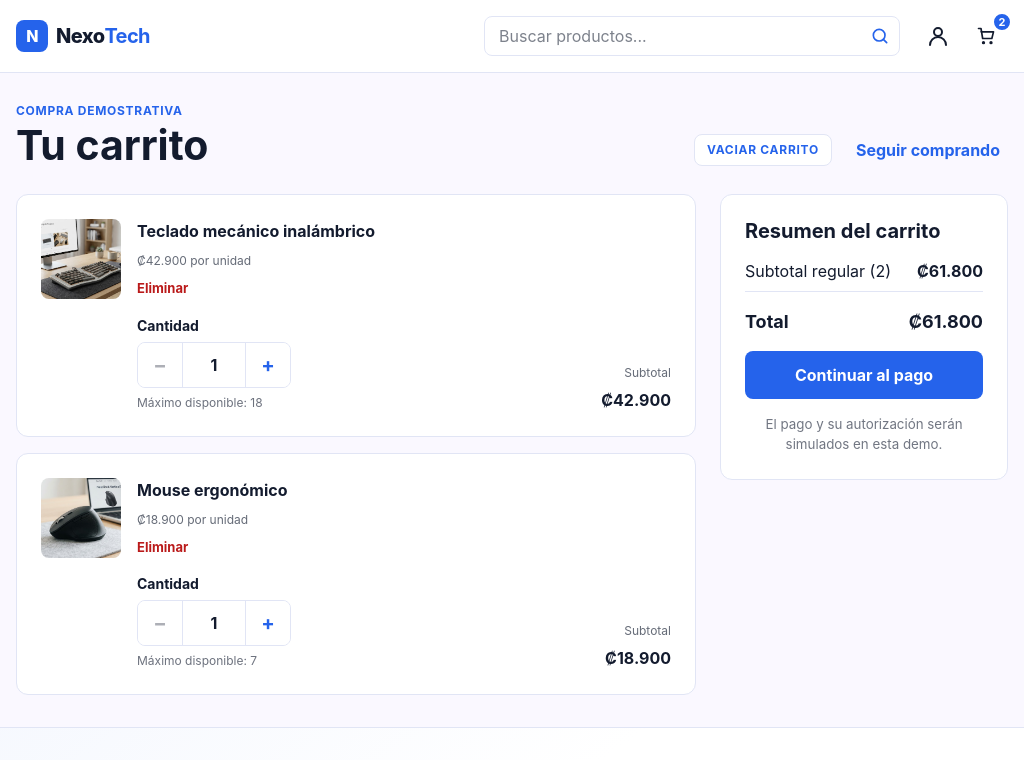
Test: CartPage › al eliminar el último elemento muestra EmptyState y bloquea checkout
Click the button "Eliminar" below "₡42.900 por unidad" at [163, 289], box left=137, top=279, right=188, bottom=299
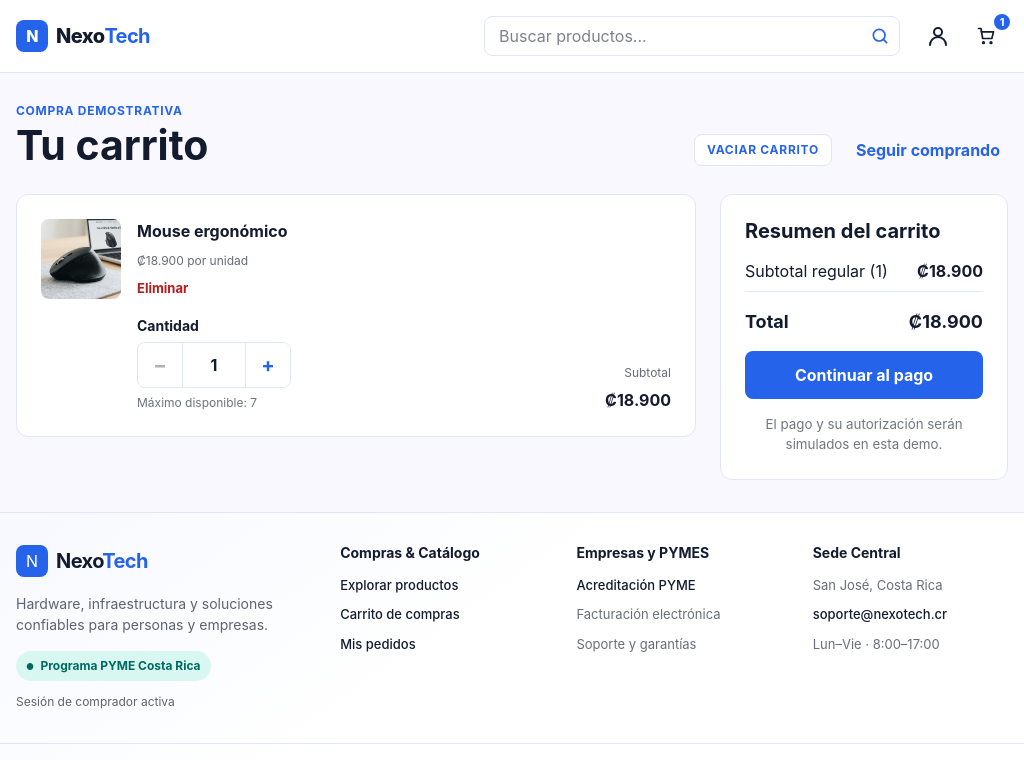
Click the button "Eliminar" at [163, 289], box left=137, top=279, right=188, bottom=299
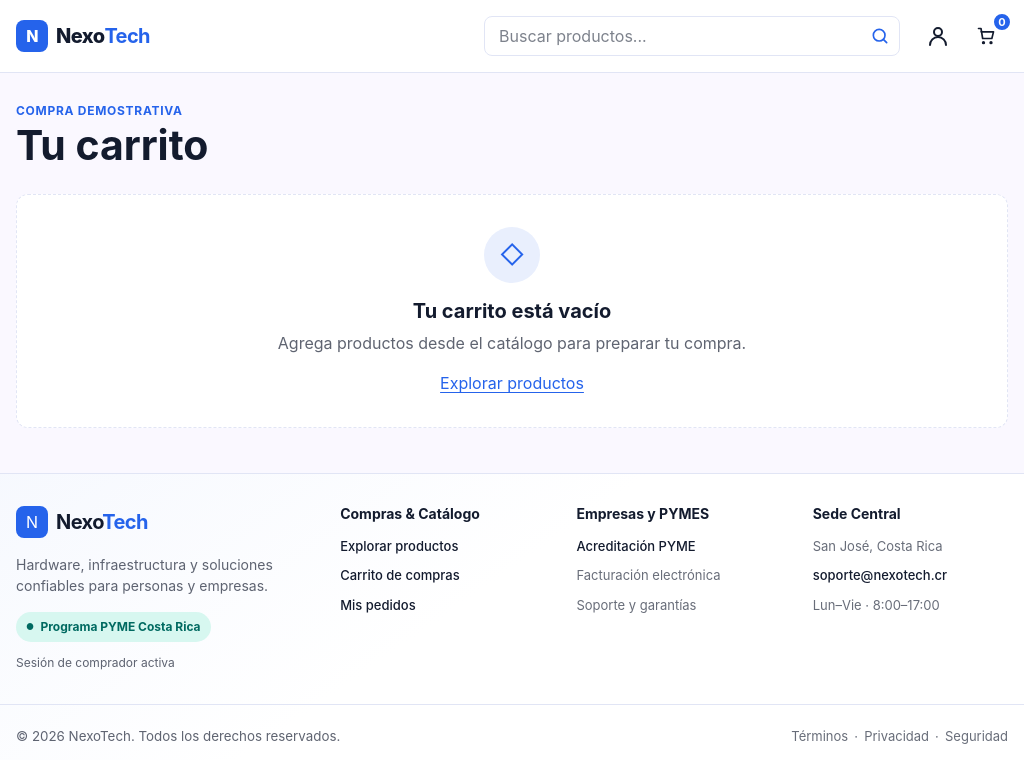
Now the heading "Tu carrito está vacío" is shown, box left=413, top=299, right=611, bottom=323
Now the link "Continuar al pago" is gone
Now the link named "Carrito, 0 productos" is shown, box left=976, top=12, right=1012, bottom=46
